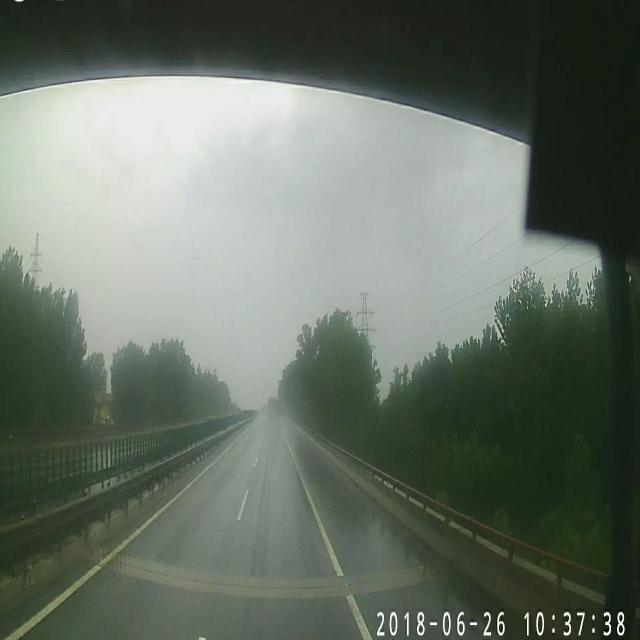car: (267, 398, 281, 426)
